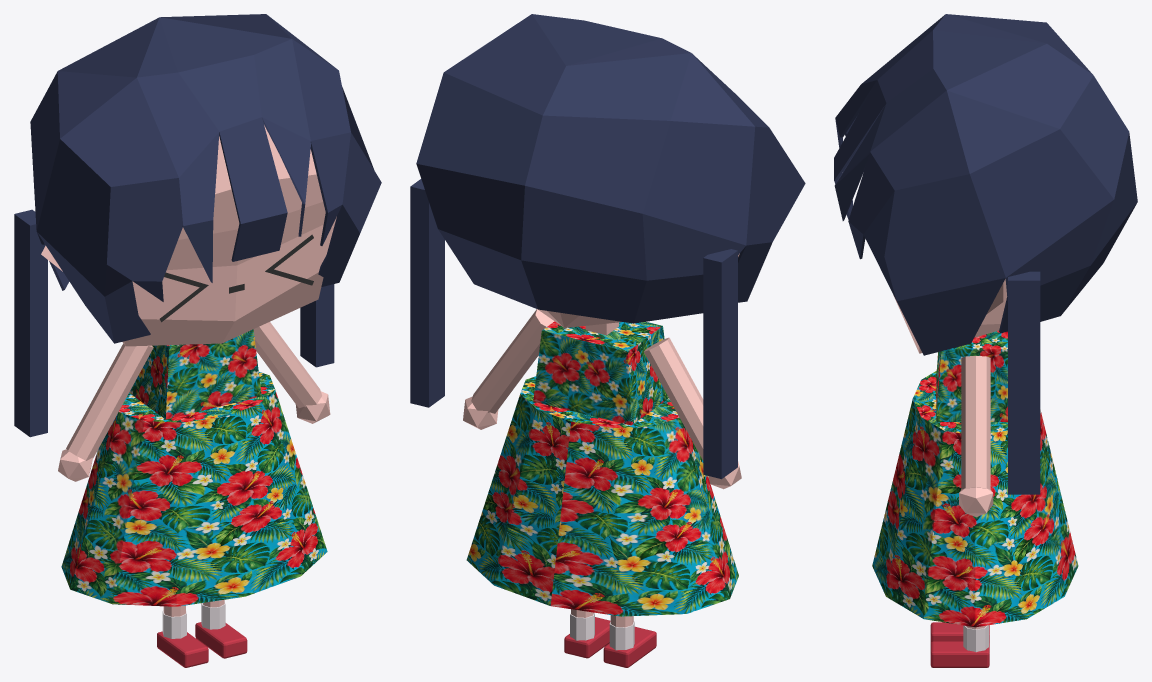
Rendered from marin.glb.
The picture shows the model from 3 angles, left to right: view 1: azimuth 30°, elevation 25°; view 2: azimuth 150°, elevation 25°; view 3: azimuth 270°, elevation 25°; orthographic projection. The views are drawn at different scales.
Visible parts, largest first — view 1: kami1, Marin_Skirt, kao, twin_l, Arm_R, Shoe_R, twin_r, Hand_R, Sock_R, Face_Text; view 2: kami1, Marin_Skirt, twin_l, twin_r, Arm_R, Shoe_R, Sock_R, Hand_R, kao; view 3: kami1, Marin_Skirt, twin_r, Arm_R, Shoe_R, kao, Hand_R, Sock_R.
Boxes of the visible parts, x1=… form: kami1: x1=30, y1=14, x2=381, y2=343; Marin_Skirt: x1=61, y1=329, x2=327, y2=606; kao: x1=41, y1=125, x2=336, y2=346; twin_l: x1=14, y1=209, x2=47, y2=437; Arm_R: x1=66, y1=322, x2=321, y2=460; Shoe_R: x1=157, y1=622, x2=247, y2=667; twin_r: x1=300, y1=284, x2=334, y2=367; Hand_R: x1=58, y1=391, x2=330, y2=481; Sock_R: x1=162, y1=602, x2=225, y2=638; Face_Text: x1=159, y1=234, x2=313, y2=322; kami1: x1=416, y1=14, x2=805, y2=323; Marin_Skirt: x1=466, y1=321, x2=738, y2=616; twin_l: x1=703, y1=249, x2=737, y2=479; twin_r: x1=410, y1=179, x2=444, y2=407; Arm_R: x1=471, y1=309, x2=703, y2=460; Shoe_R: x1=564, y1=617, x2=656, y2=667; Sock_R: x1=570, y1=612, x2=634, y2=650; Hand_R: x1=463, y1=396, x2=741, y2=489; kao: x1=538, y1=253, x2=739, y2=327; kami1: x1=834, y1=14, x2=1137, y2=355; Marin_Skirt: x1=872, y1=330, x2=1078, y2=627; twin_r: x1=1008, y1=271, x2=1040, y2=494; Arm_R: x1=961, y1=355, x2=990, y2=489; Shoe_R: x1=930, y1=622, x2=989, y2=667; kao: x1=893, y1=279, x2=1007, y2=353; Hand_R: x1=959, y1=487, x2=993, y2=516; Sock_R: x1=963, y1=625, x2=988, y2=652.
Bounding box in the file's own units: 0.9371 × 1.77 × 0.7985.
Materials: 8 (1 with a texture image).
